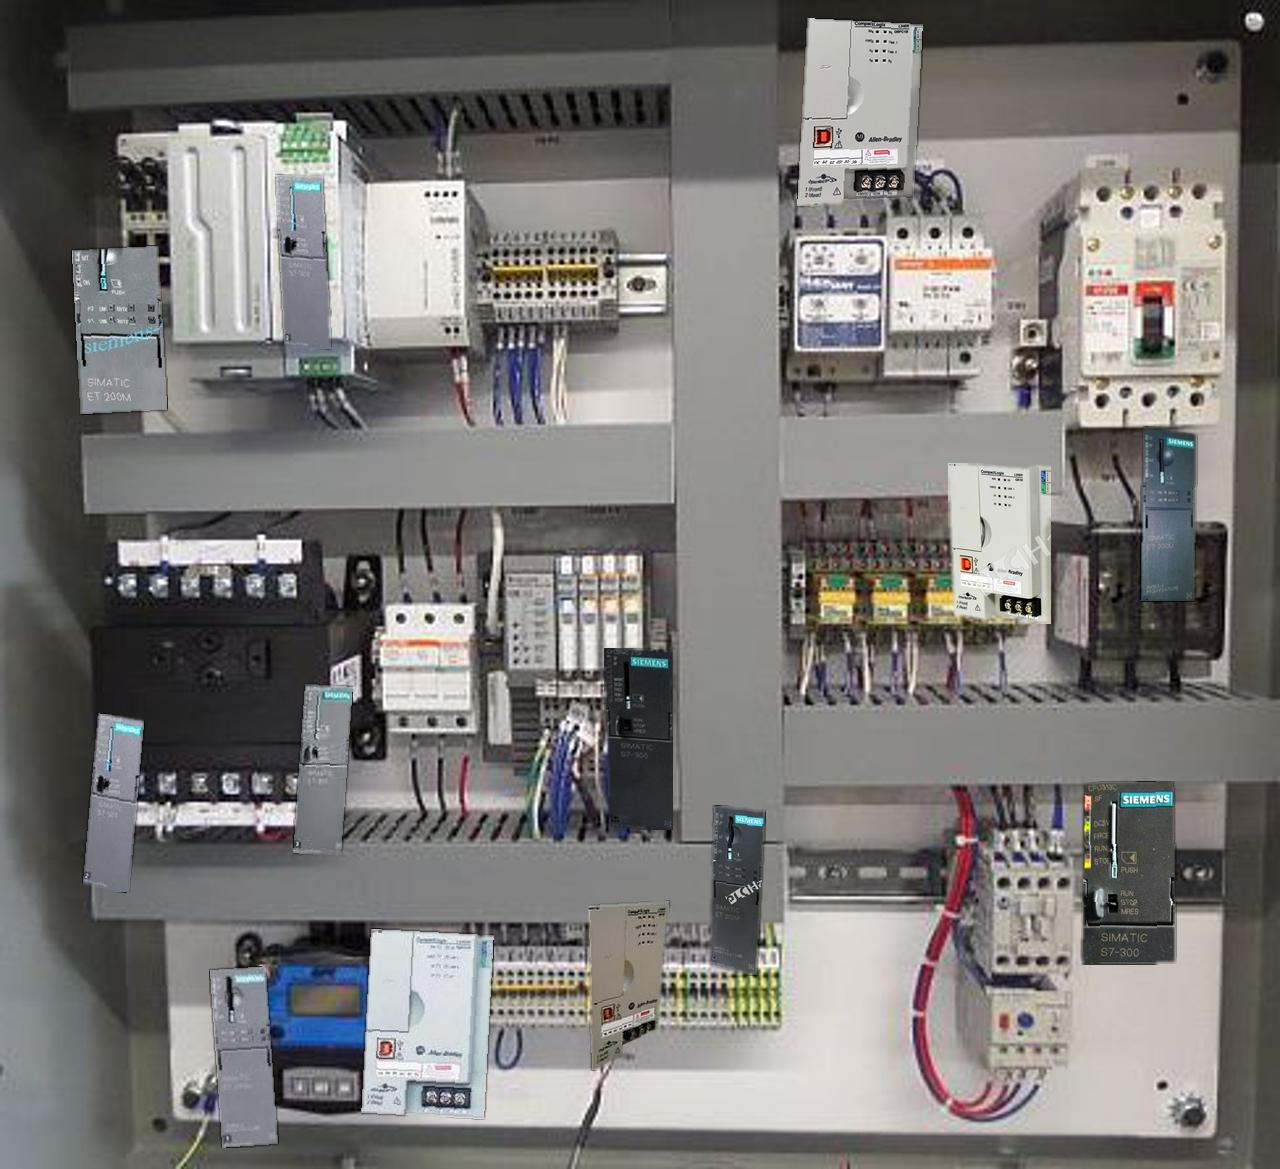AllenBradley: (361, 929, 493, 1117), (797, 18, 922, 205), (948, 463, 1050, 624), (588, 901, 668, 1069)
Siemens: (1082, 781, 1174, 964), (604, 648, 672, 829), (83, 713, 143, 892), (293, 685, 352, 853), (277, 175, 330, 348)
